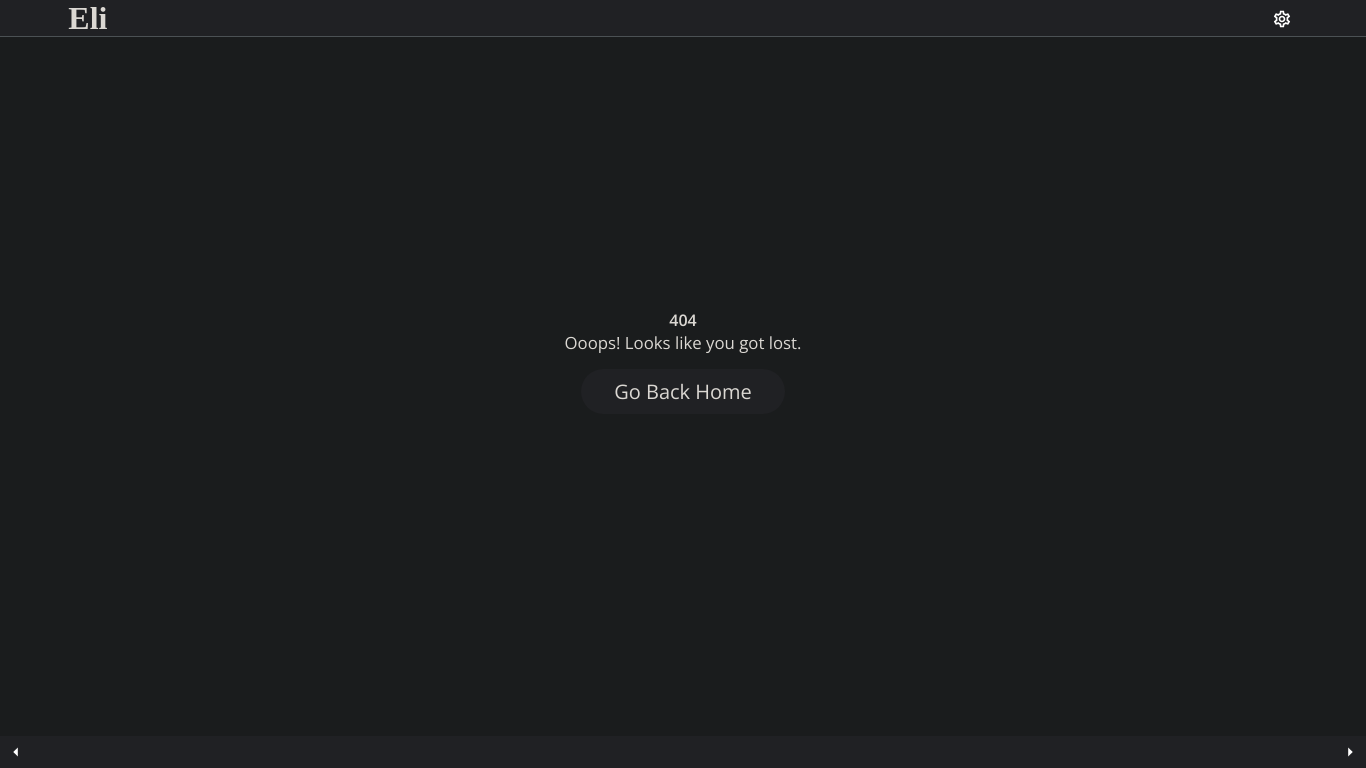
Test case: should show configuration errors if wrongly configured
Click the button with alt text "control panel" in the row of "Eli" at (1282,18), box [1272,8,1292,28]
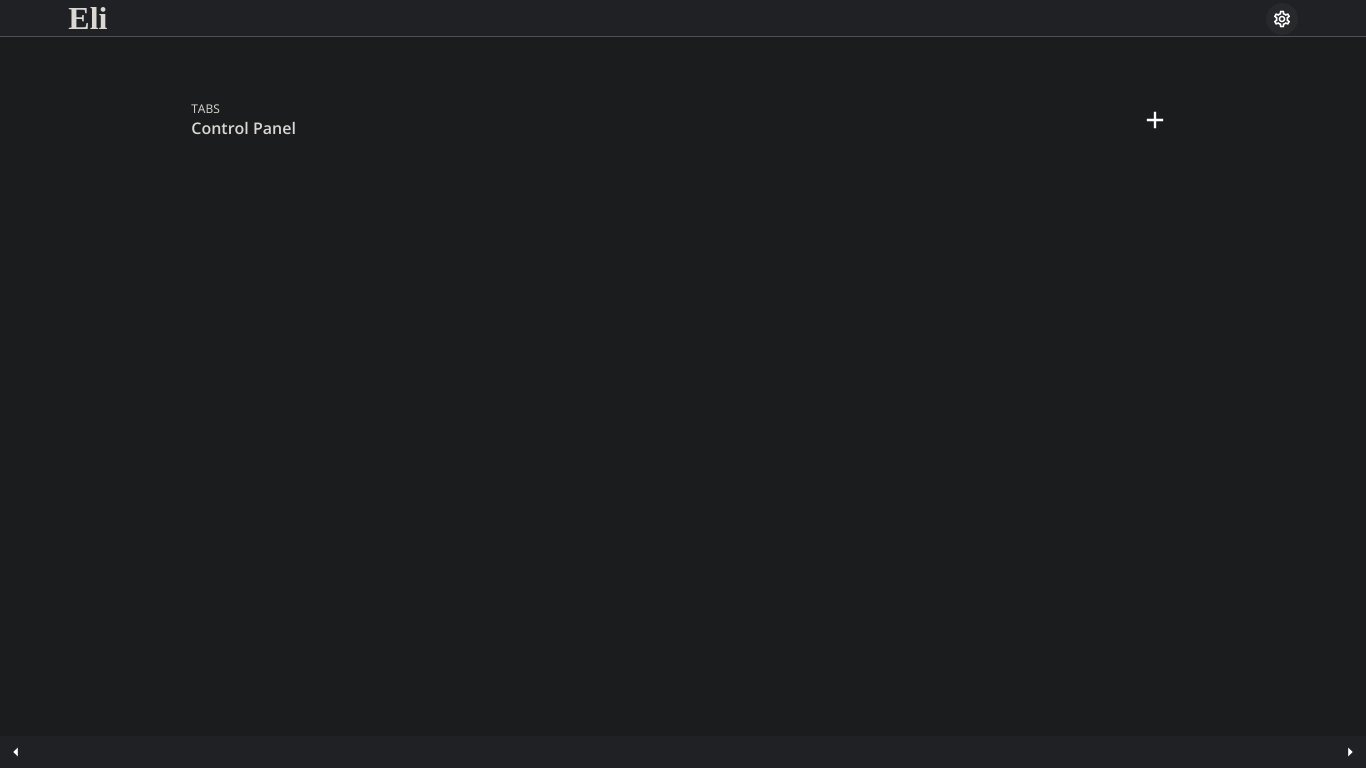
Expected: the text "TABS" is shown, [191,100,220,117]
Click the button with alt text "Create New Tab" in the row of "Control Panel" at (1155,120), box [1135,100,1175,140]
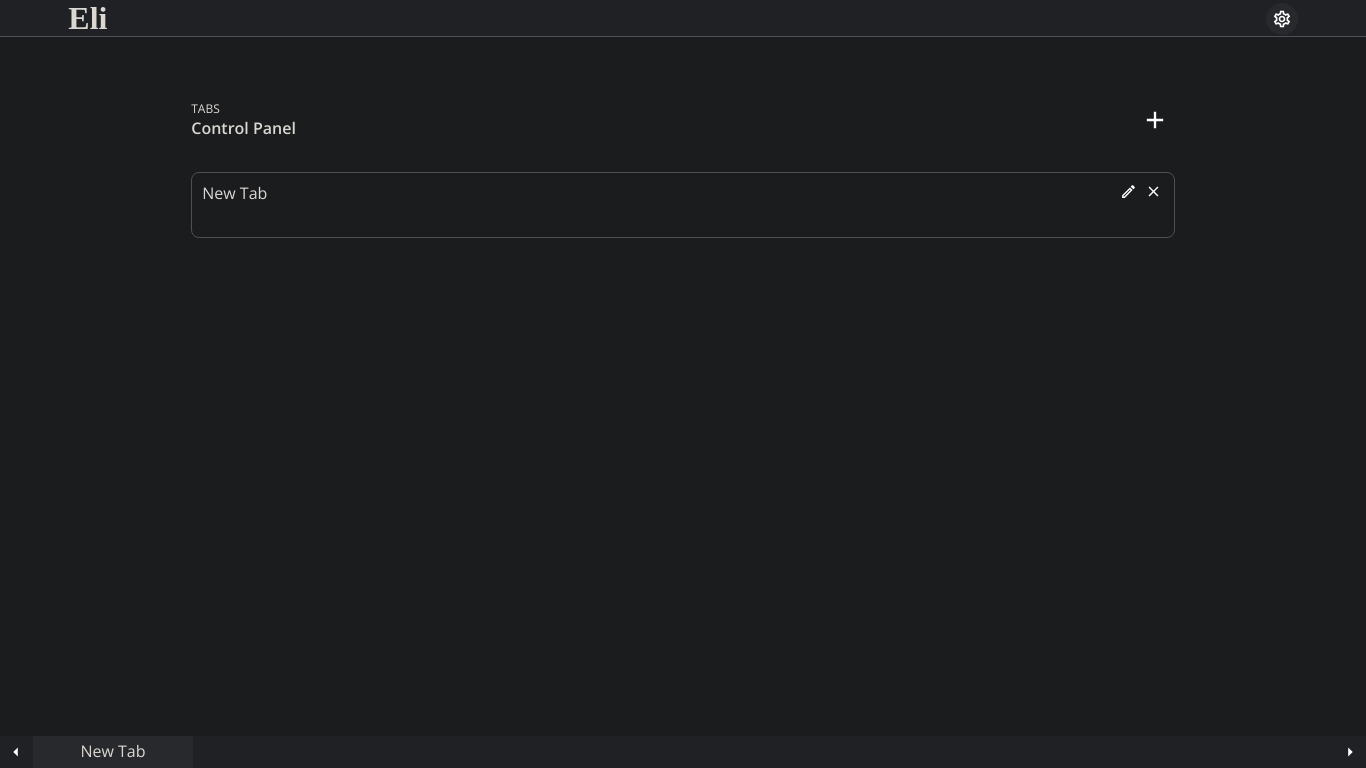
Replace the text in the field showing "New Tab" with "the tab" at (658,193), box [200,181,1116,205]
Click the link with alt text "edit" at (1129,192), box [1120,183,1137,200]
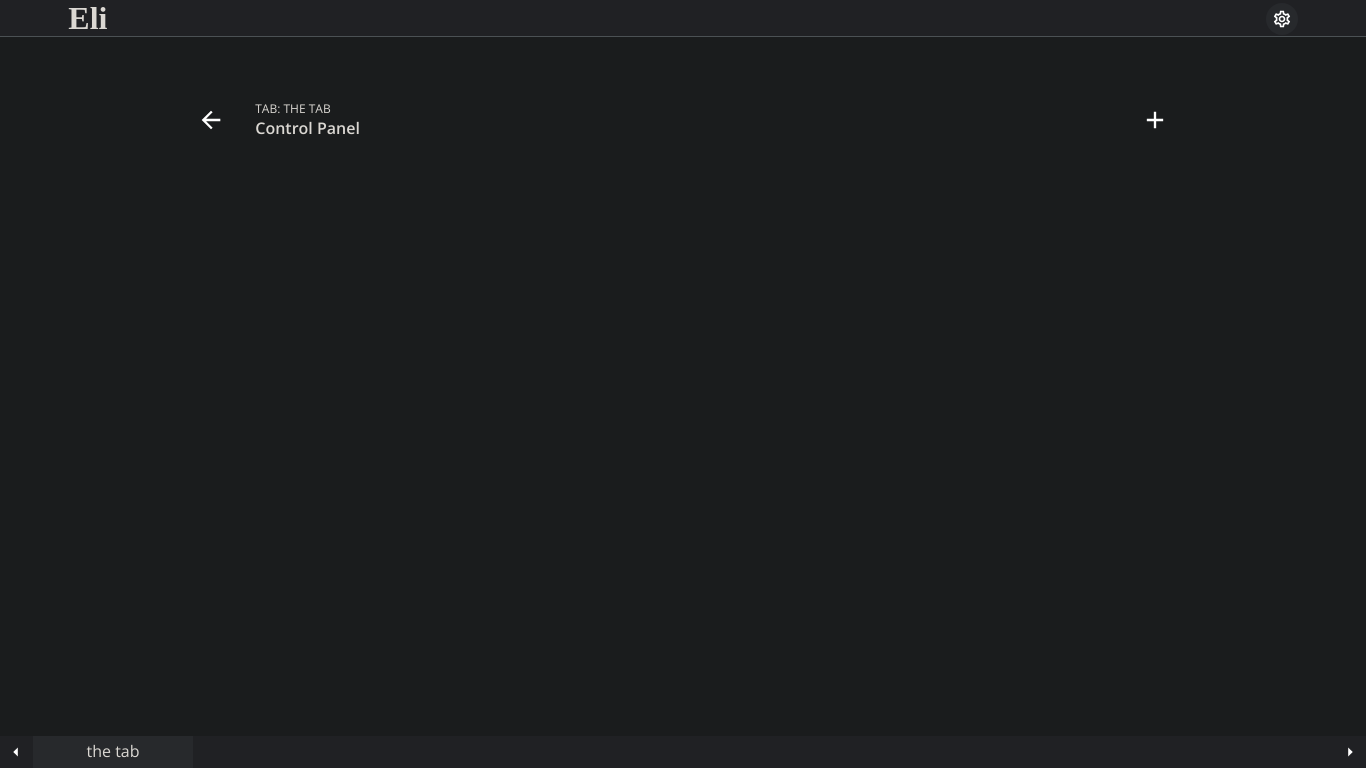
Click the button with alt text "Create New Visualization" in the row of "Control Panel" at (1155,120), box [1135,100,1175,140]
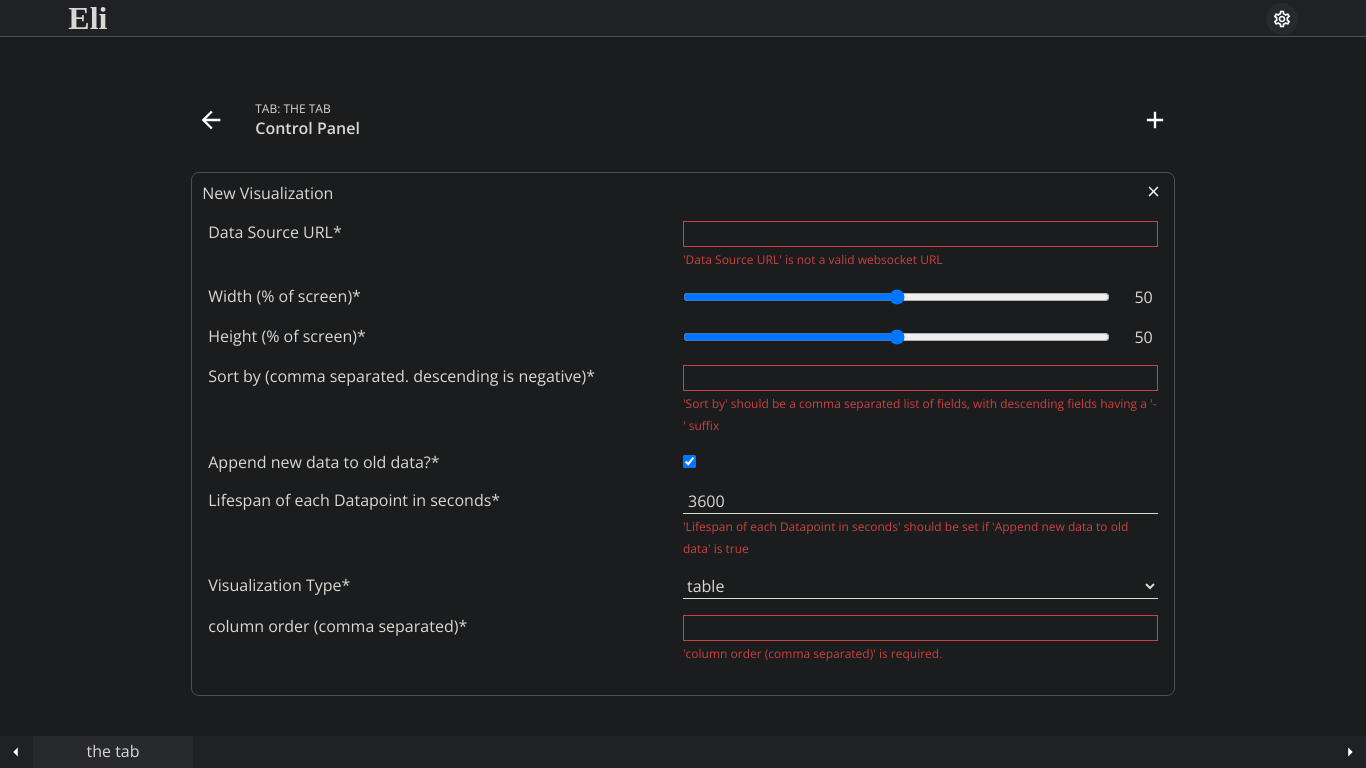
Replace the text in the field showing "New Visualization" with "the visualization" at (671,193), box [200,181,1141,205]
Select "bar-chart" in the dropdown labelled "Visualization Type*" at (920,586), box [683,574,1158,599]
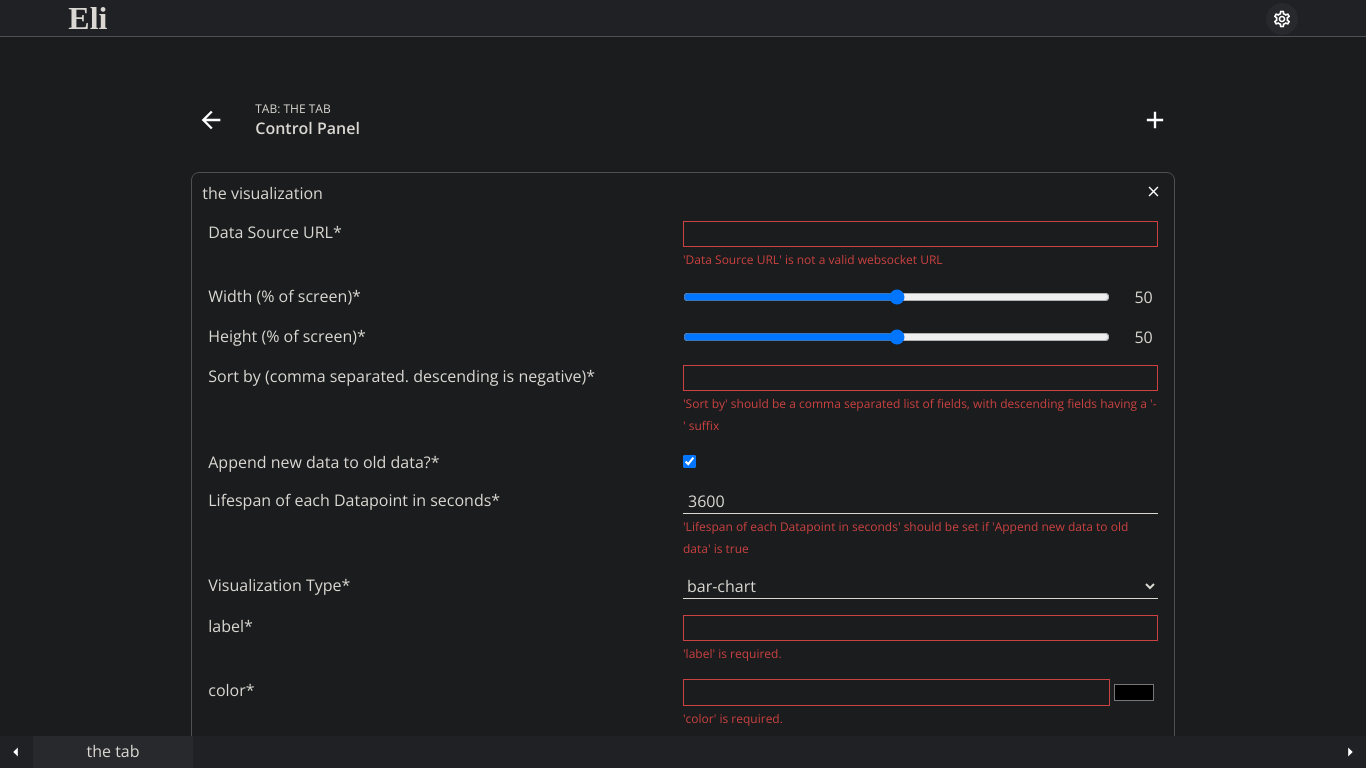
Click the link "the tab" at (113,752), box [33,736,193,767]
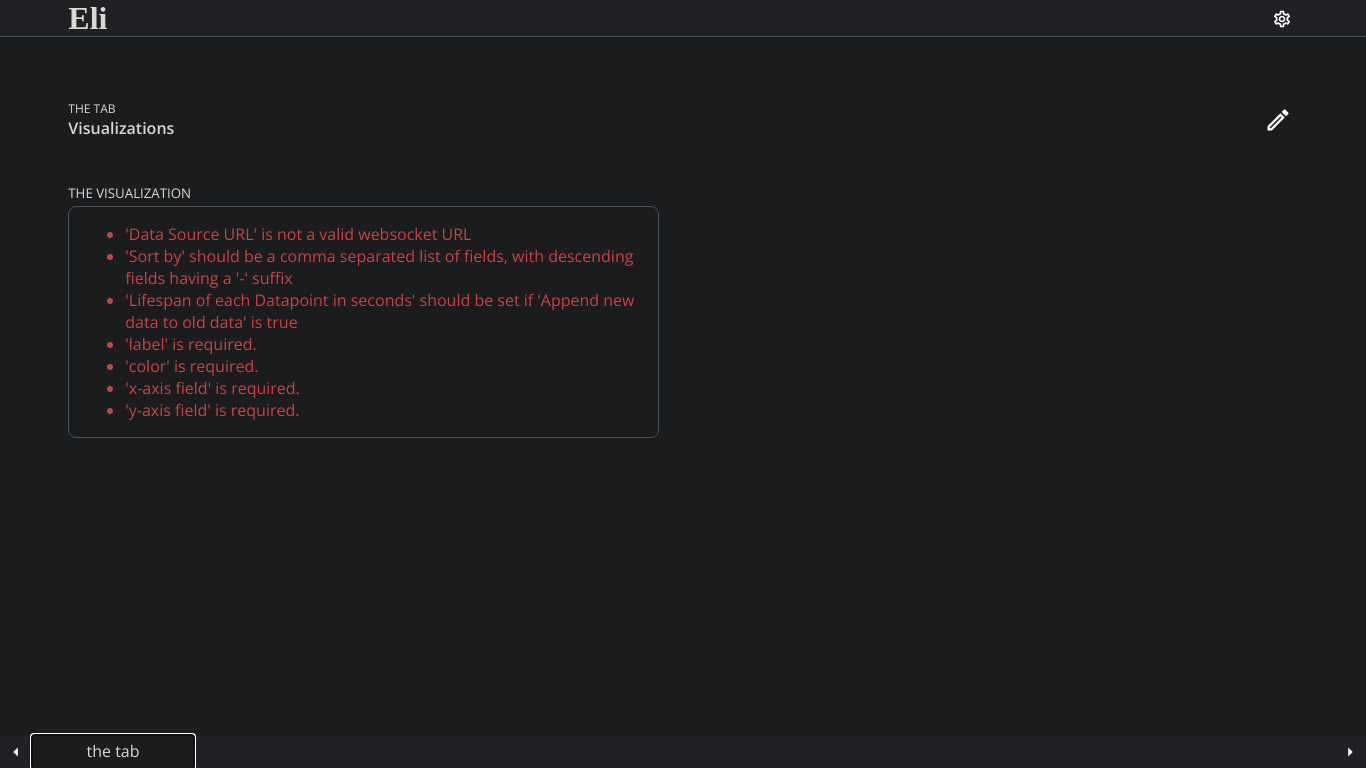
Expected: the list item "'Data Source URL' is not a valid websocket URL" is shown, [125,223,472,245]
Expected: the list item "'Sort by' should be a comma separated list of fields, with descending fields having a '-' suffix" is shown, [125,245,633,289]
Expected: the heading "Visualizations" is shown, [68,117,174,139]
